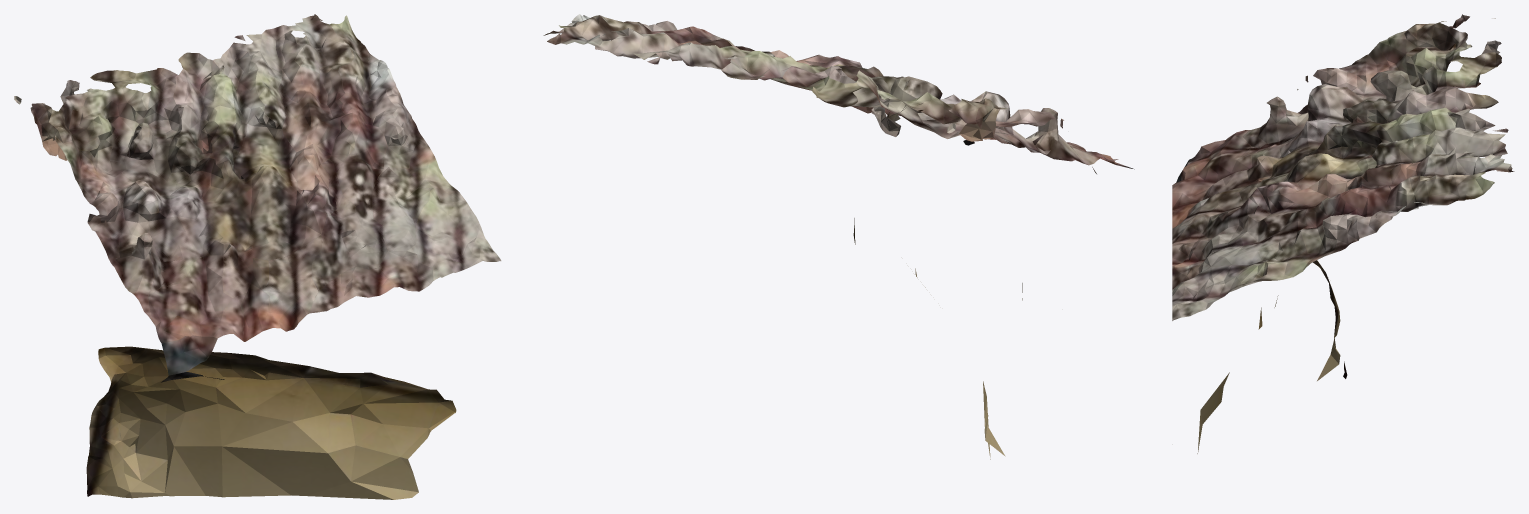
3 views of the same model, side by side, from view 1: azimuth 30°, elevation 25°; view 2: azimuth 150°, elevation 25°; view 3: azimuth 270°, elevation 25° (orthographic). The views are drawn at different scales.
Bounding box in the file's own units: 1.67 × 1.67 × 1.43.
4 materials, 4 textured.
